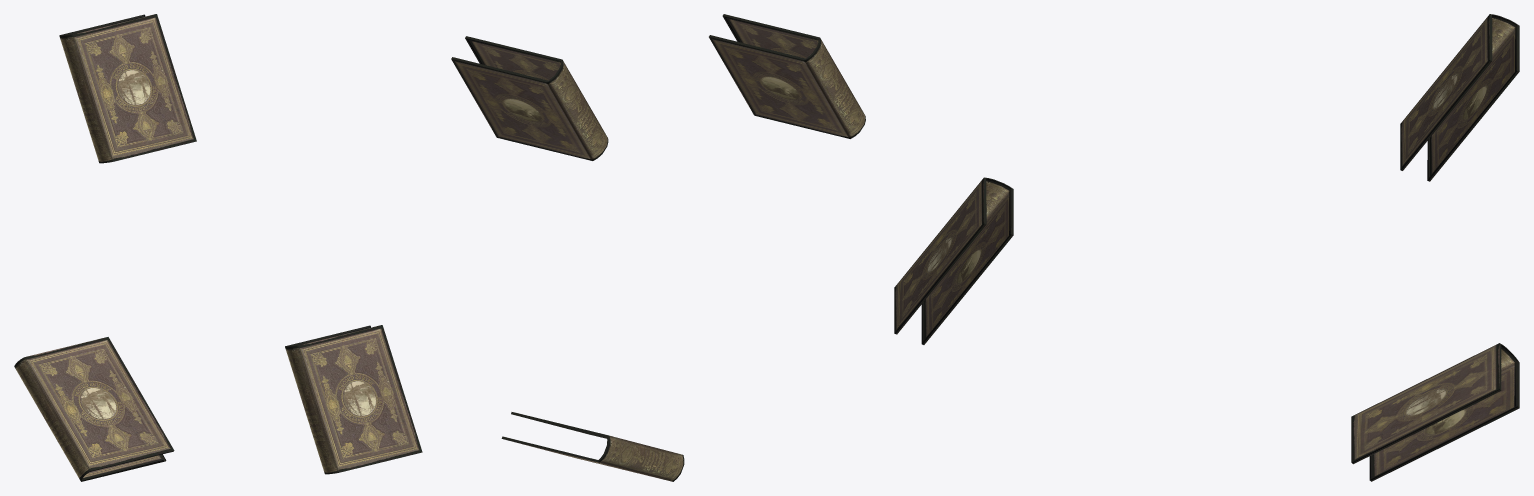
The model's file is book004Scaffale.fbx.
3 views of the same model, side by side, from view 1: azimuth 30°, elevation 25°; view 2: azimuth 150°, elevation 25°; view 3: azimuth 270°, elevation 25° (orthographic). The views are drawn at different scales.
Visible parts, largest first — view 1: Cube.056_book.004_0; view 2: Cube.056_book.004_0; view 3: Cube.056_book.004_0.
Boxes of the visible parts, x1=… form: Cube.056_book.004_0: x1=14, y1=14, x2=422, y2=481; Cube.056_book.004_0: x1=451, y1=14, x2=865, y2=481; Cube.056_book.004_0: x1=894, y1=14, x2=1519, y2=481.
Size of the model in its own units: 42.86 by 123 by 157.
